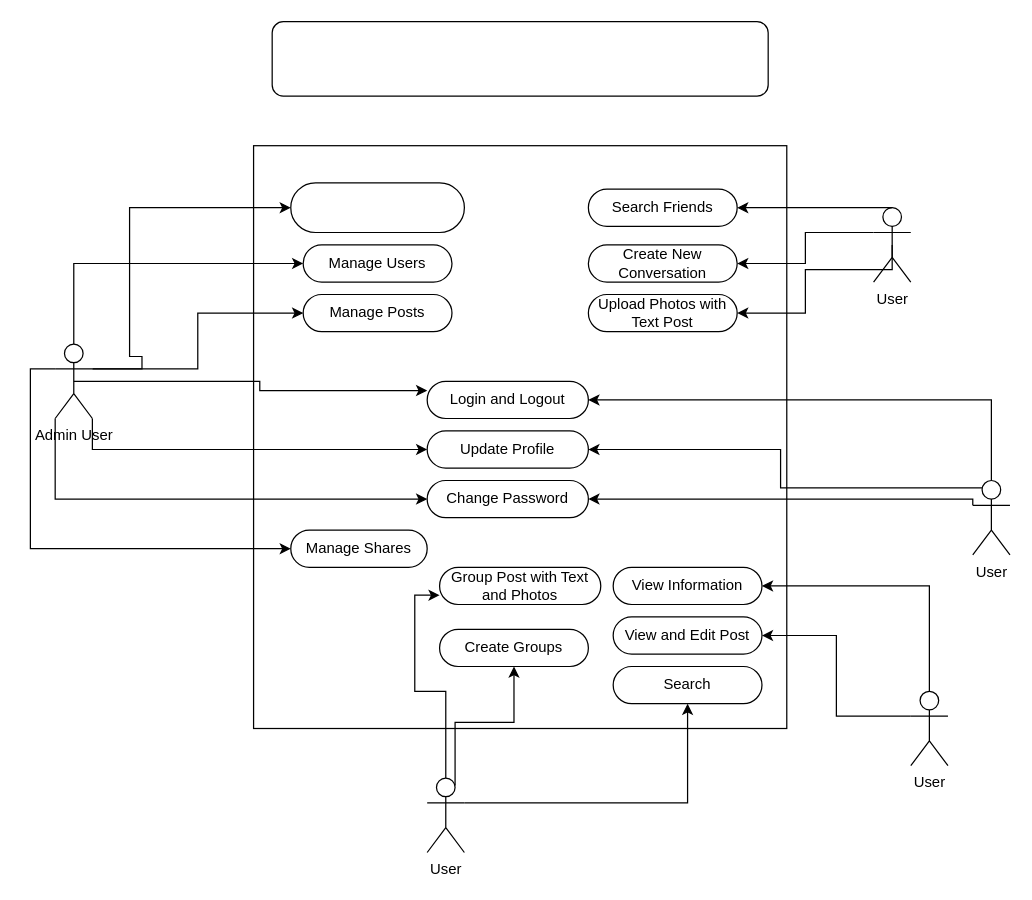
Image size: 1032x900. Some labels were removed from this diagram. Here are the shapes that lost their labels. From the top down, the centre of each, then its label:
point 519,58: Usecase Diagram for Connect
point 377,207: Manage Users and Full Application
